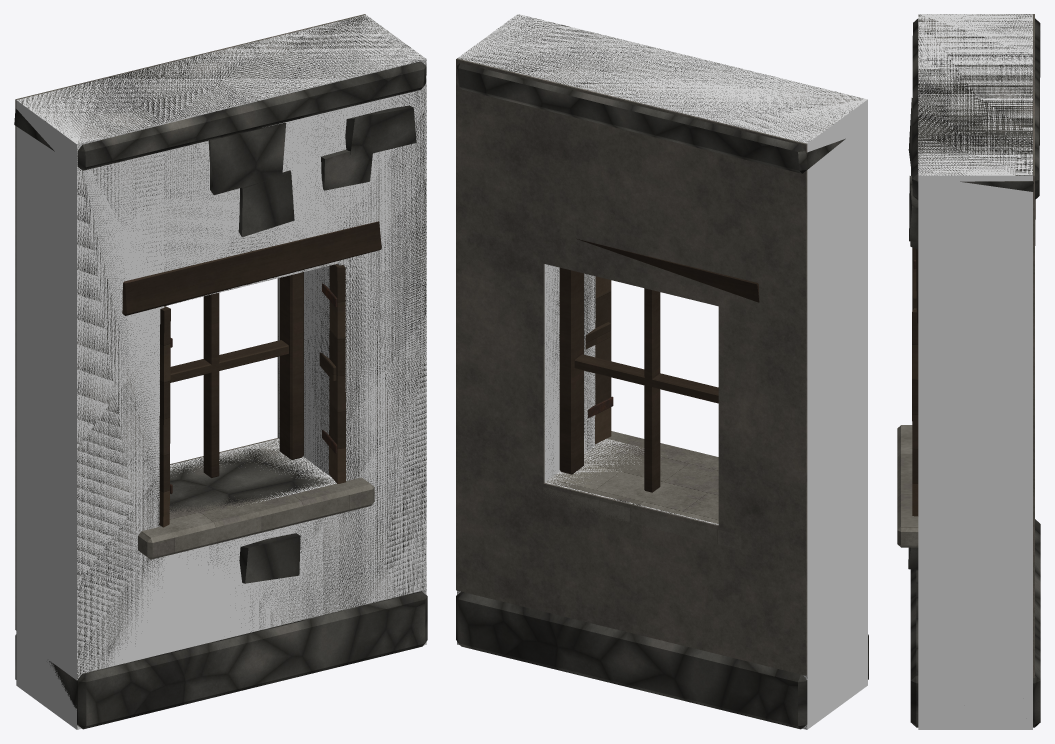
Rendered from ak_wall_stone_2x3_win_square_open.glb.
The picture shows the model from 3 angles, left to right: view 1: azimuth 30°, elevation 25°; view 2: azimuth 150°, elevation 25°; view 3: azimuth 270°, elevation 25°; orthographic projection. The views are drawn at different scales.
Visible parts, largest first — view 1: col_wall_L, wall, col_wall_R, wall_stones, frame, col_wall_top, col_wall_low, shutter_R, shutter_L, wall_plaster; view 2: wall_plaster, col_wall_L, wall_stones, frame, wall, col_wall_top, col_wall_R, shutter_R, col_wall_low; view 3: col_wall_R, wall, col_wall_top, wall_stones, col_wall_L, frame, shutter_R, wall_plaster, shutter_L.
Part boxes in pixels (bbox=[...]): col_wall_L: bbox=[16, 79, 164, 729]; wall: bbox=[18, 15, 426, 729]; col_wall_R: bbox=[278, 15, 426, 644]; wall_stones: bbox=[14, 61, 427, 729]; frame: bbox=[122, 221, 381, 559]; col_wall_top: bbox=[104, 36, 339, 305]; col_wall_low: bbox=[164, 438, 339, 653]; shutter_R: bbox=[319, 264, 345, 483]; shutter_L: bbox=[159, 306, 172, 527]; wall_plaster: bbox=[15, 14, 365, 630]; wall_plaster: bbox=[456, 58, 807, 675]; col_wall_L: bbox=[720, 78, 867, 729]; wall_stones: bbox=[456, 63, 868, 729]; frame: bbox=[521, 238, 759, 549]; wall: bbox=[457, 14, 862, 729]; col_wall_top: bbox=[545, 35, 779, 122]; col_wall_R: bbox=[457, 14, 604, 644]; shutter_R: bbox=[585, 276, 613, 444]; col_wall_low: bbox=[545, 439, 718, 524]; col_wall_R: bbox=[918, 135, 1032, 729]; wall: bbox=[918, 14, 1032, 175]; col_wall_top: bbox=[918, 54, 1032, 135]; wall_stones: bbox=[908, 18, 1040, 727]; col_wall_L: bbox=[918, 14, 1032, 54]; frame: bbox=[897, 200, 1035, 547]; shutter_R: bbox=[912, 308, 918, 516]; wall_plaster: bbox=[1033, 14, 1034, 677]; shutter_L: bbox=[912, 247, 916, 310].
Size of the model in its own units: 2.01 by 3.2 by 0.75.
6 materials, 6 textured.
